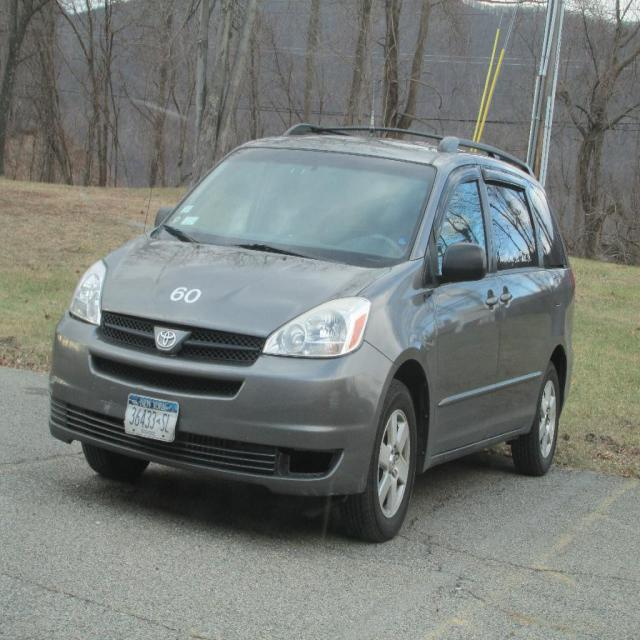car: (32, 121, 568, 538)
